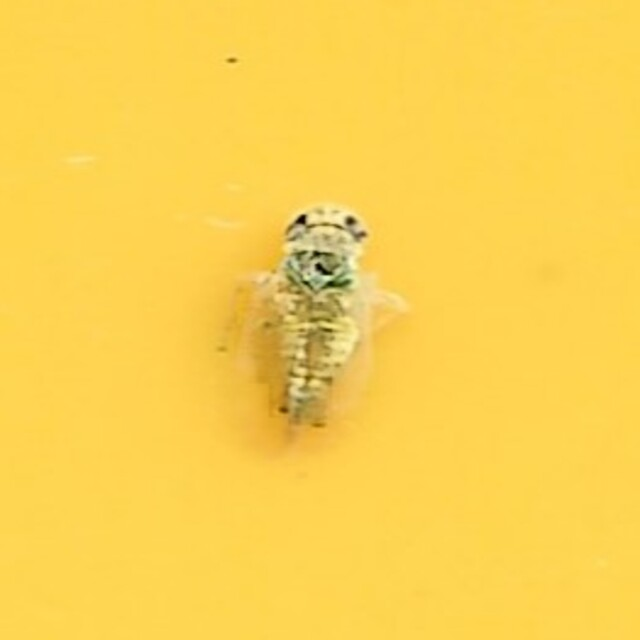Hemiptera: (244, 190, 396, 450)
